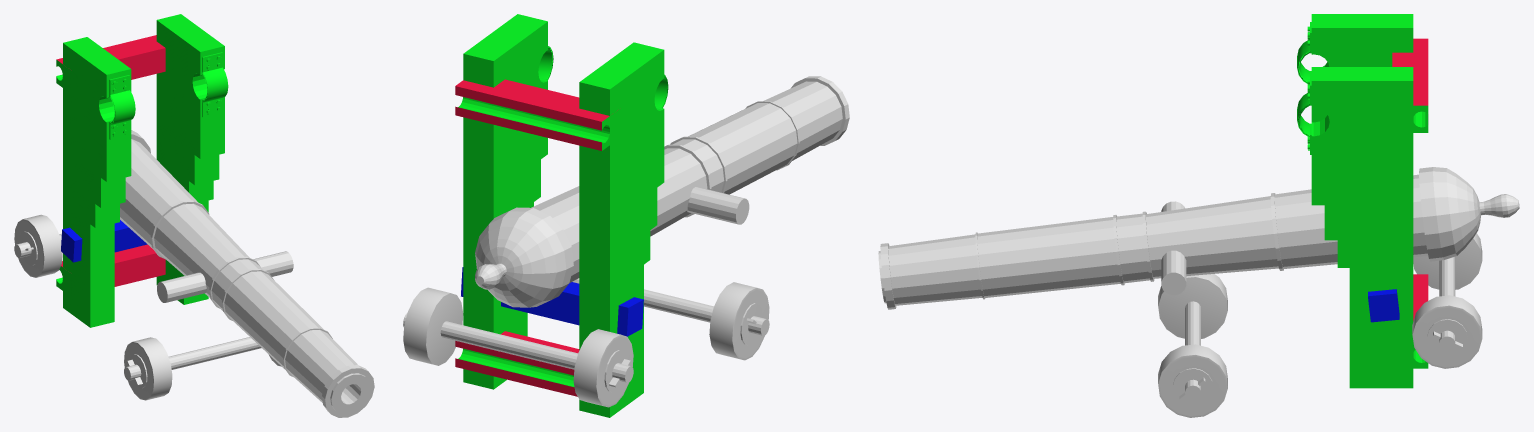
The model's file is Gun9.fbx.
3 views of the same model, side by side, from view 1: azimuth 30°, elevation 25°; view 2: azimuth 150°, elevation 25°; view 3: azimuth 270°, elevation 25° (orthographic). The views are drawn at different scales.
Visible parts, largest first — view 1: Base, Gun, Wheel; view 2: Base, Gun, Wheel; view 3: Gun, Base, Wheel.
Boxes of the visible parts, left/top/right/bottom form: Base: left=56, top=14, right=228, bottom=327; Gun: left=120, top=130, right=374, bottom=417; Wheel: left=14, top=214, right=281, bottom=400; Base: left=455, top=14, right=668, bottom=417; Gun: left=475, top=76, right=849, bottom=307; Wheel: left=403, top=278, right=769, bottom=407; Gun: left=878, top=167, right=1519, bottom=309; Base: left=1297, top=14, right=1428, bottom=388; Wheel: left=1158, top=233, right=1482, bottom=417.
Bounding box in the file's own units: 8.54 × 12.82 × 22.82.
